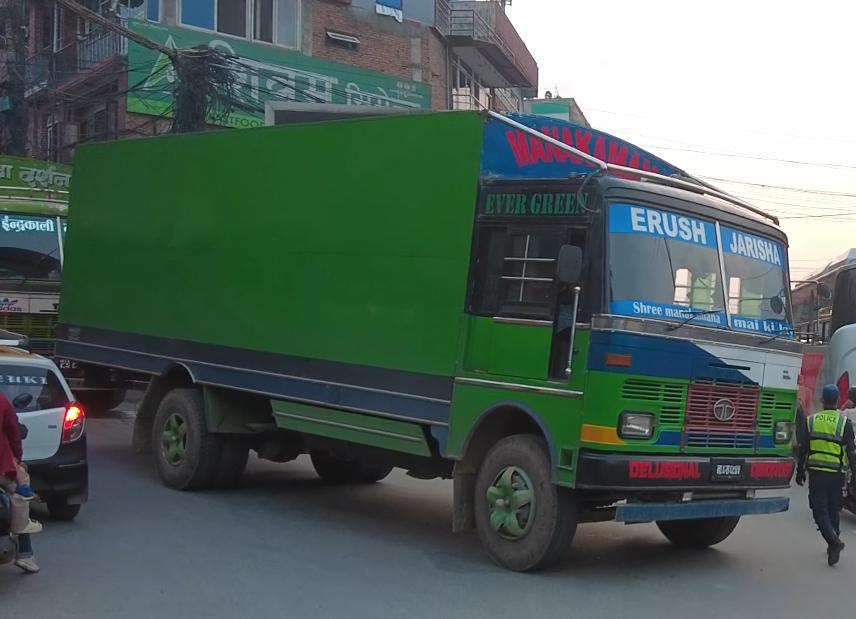bus: (789, 245, 856, 485)
taxi: (0, 325, 89, 525)
truck: (51, 105, 805, 572), (0, 152, 133, 412)
